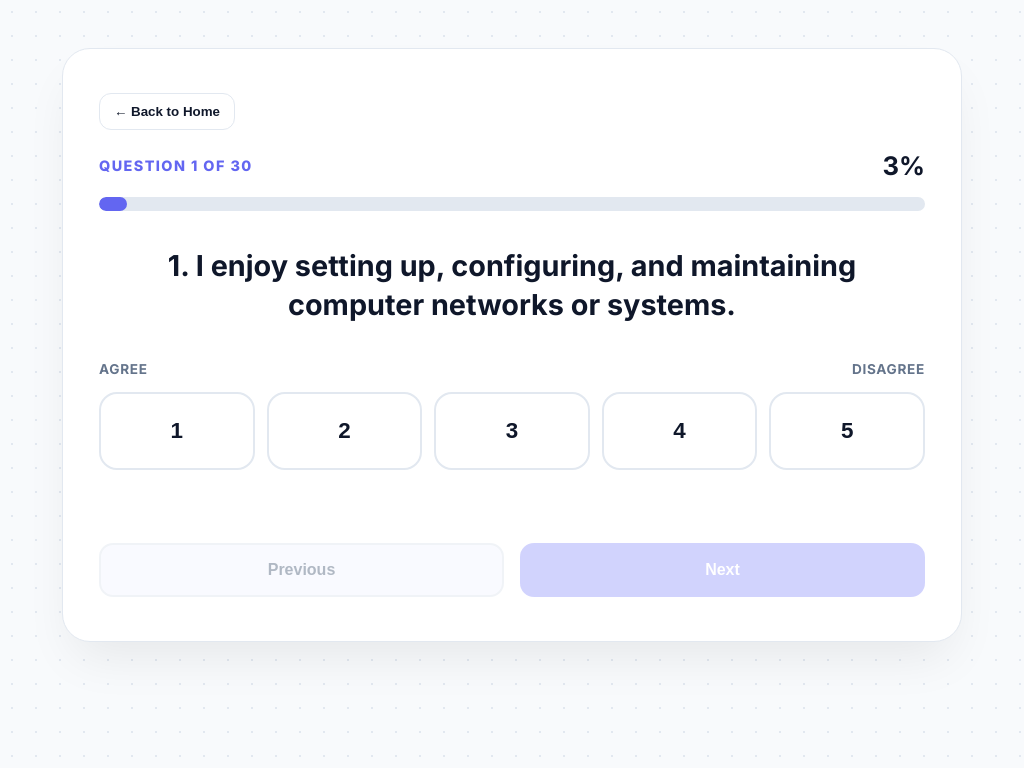
Test: InterestAssessmentQuiz › moves to question 2 after answering question 1
Click the button named "Select score 5": (847, 431) [769,392,925,470]
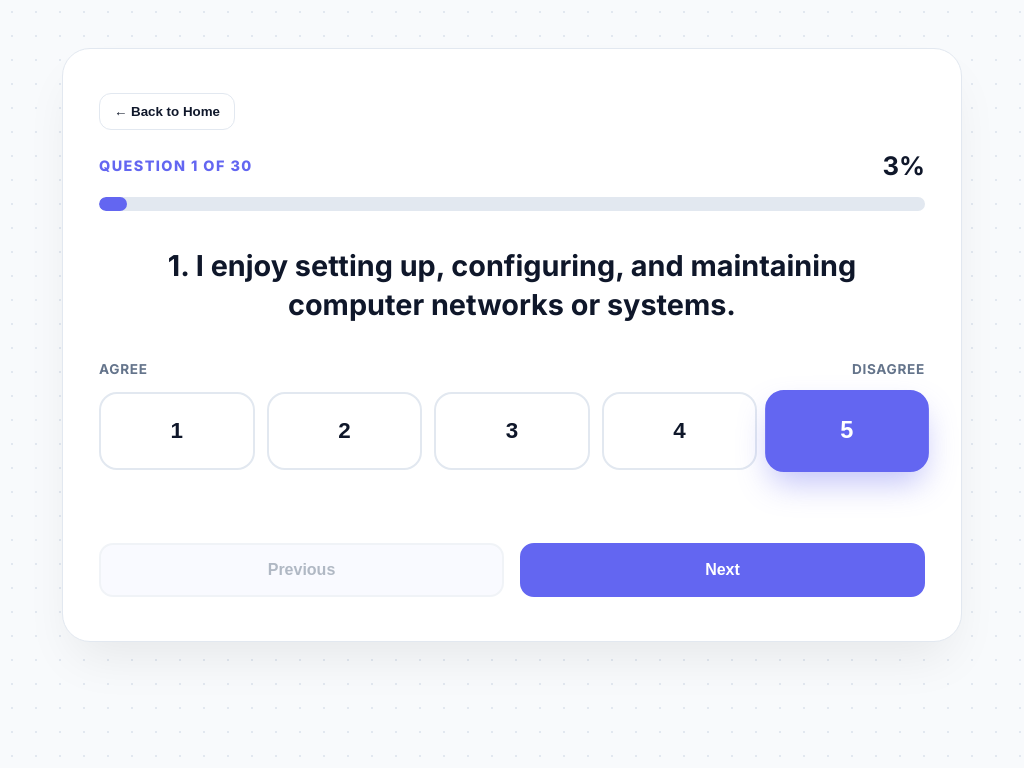
Click the button with aria-label "Next question": (722, 570) [520,543,925,597]
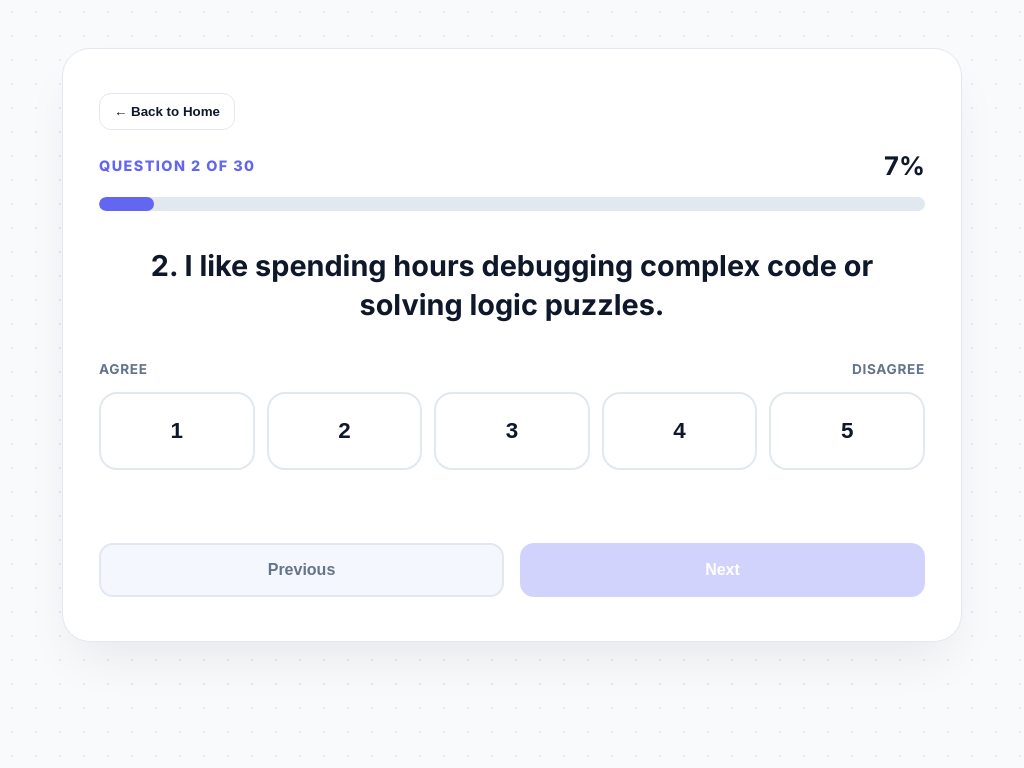
Now the text "debugging complex code or solving logic puzzles" is shown, box [151,248,873,322]
Now the text "Question 2 of 30" is shown, box [99,157,256,174]
